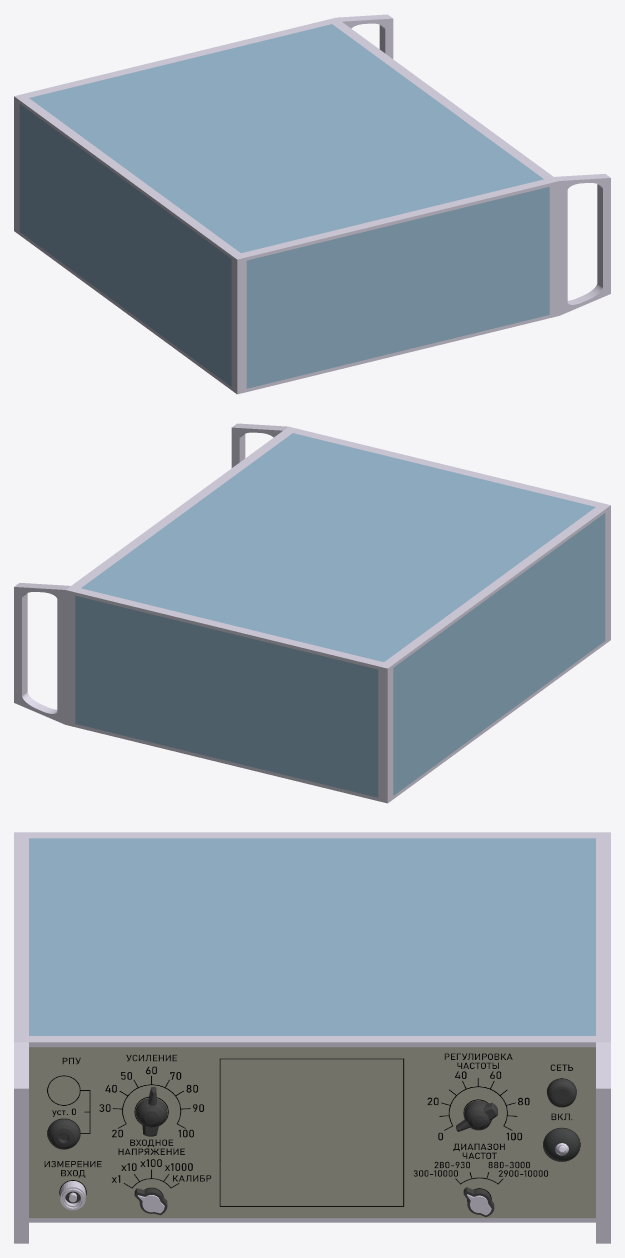
Rendered from Измерительный_усилитель_статичный.fbx.
3 renders of one model, top to bottom at view 1: azimuth 30°, elevation 25°; view 2: azimuth 150°, elevation 25°; view 3: azimuth 270°, elevation 25°, orthographic. The views are drawn at different scales.
Visible parts, largest first — view 1: Корпус, Рамки Измерителя, Ручки; view 2: Корпус, Рамки Измерителя, Ручки; view 3: Корпус, Лицевая сторона, Рамки Измерителя, Ручки, Регулировка частоты, Рамка выключателя, Переключатель уст0 (корпус), Диапазон Частот, Рамка лампочки, Диапазон частот серебряный, Измерение вход(корпус).
Boxes of the visible parts, x1,y1,x2,y2 form: Корпус: (19,24,549,388); Рамки Измерителя: (14,17,559,394); Ручки: (337,14,610,315); Корпус: (75,433,605,797); Рамки Измерителя: (65,426,610,803); Ручки: (14,423,287,724); Корпус: (29,838,595,1035); Лицевая сторона: (29,1047,595,1218); Рамки Измерителя: (14,832,610,1222); Ручки: (14,1042,610,1243); Регулировка частоты: (135,1087,497,1136); Рамка выключателя: (543,1128,580,1161); Переключатель уст0 (корпус): (47,1119,80,1149); Диапазон Частот: (134,1187,494,1216); Рамка лампочки: (547,1079,576,1107); Диапазон частот серебряный: (137,1194,491,1215); Измерение вход(корпус): (60,1181,85,1210).
Bounding box in the file's own units: 29 × 10 × 30.
5 materials, 1 textured.
